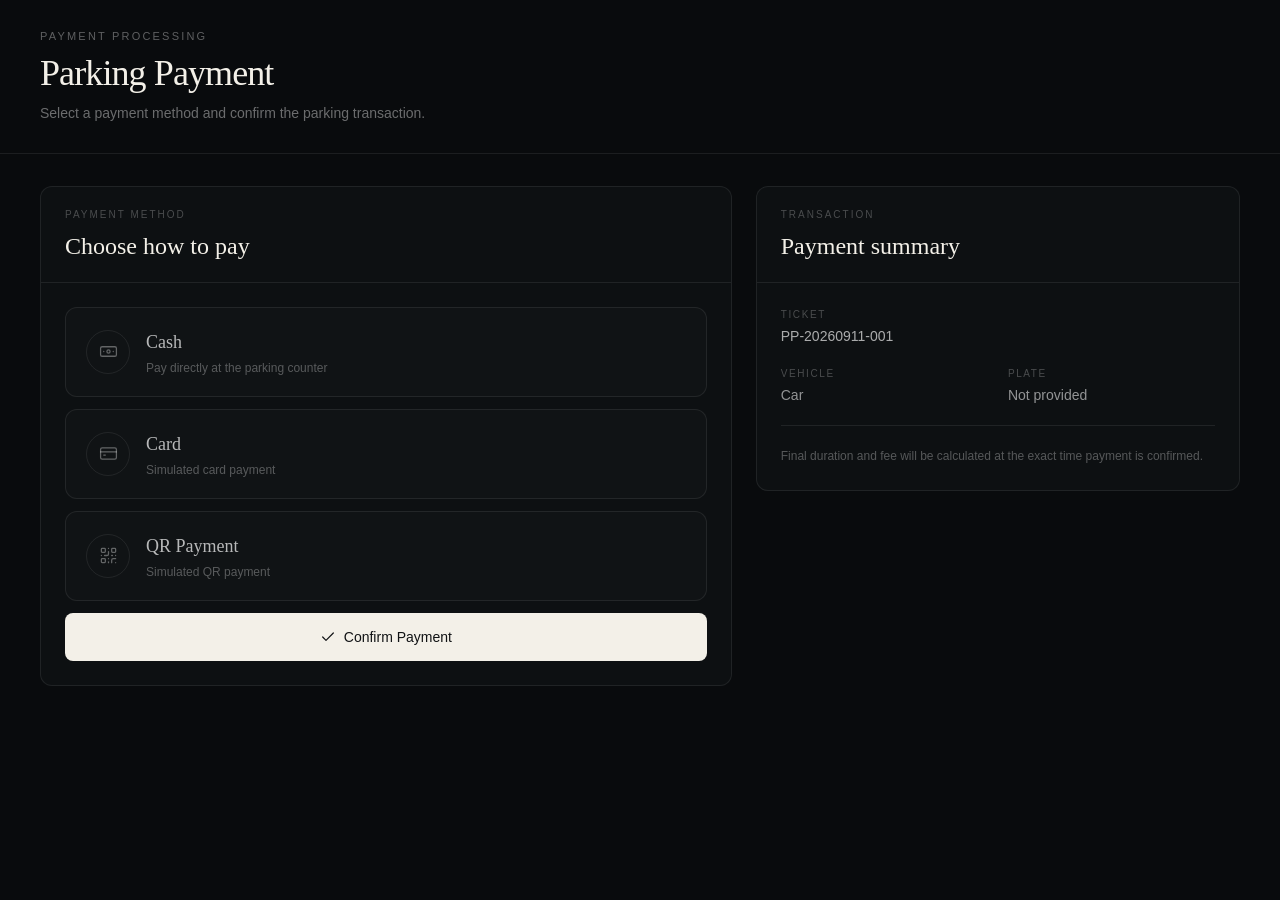
Scenario: Payment page › shows an error when confirming without a payment method
The width and height of the screenshot is (1280, 900).
Expected: the heading "Parking Payment" is shown, [40, 52, 274, 92]
Click the button "Confirm Payment".
click(386, 636)  # box [65, 612, 707, 660]
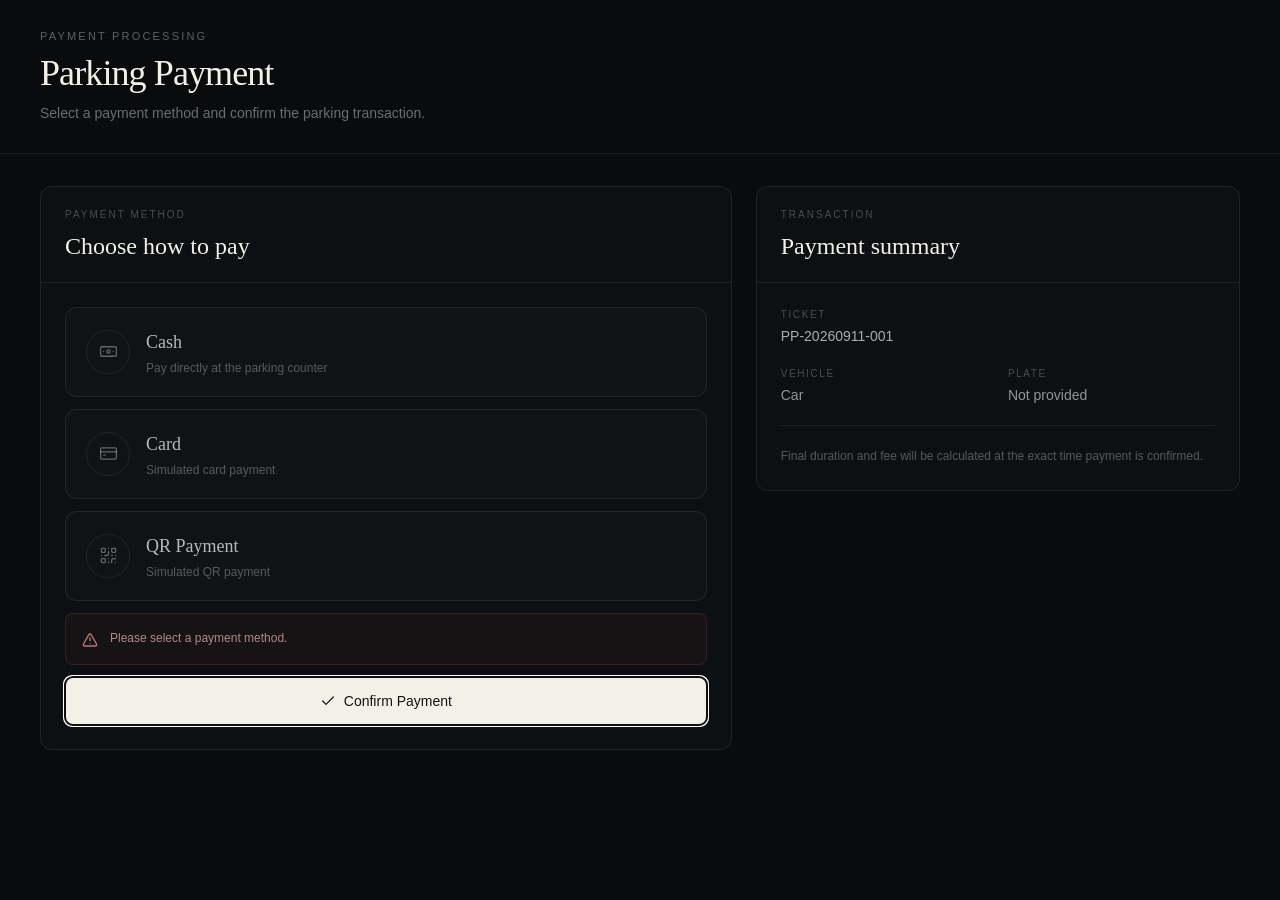
Now the text "Please select a payment method." is shown, box [110, 630, 287, 648]
